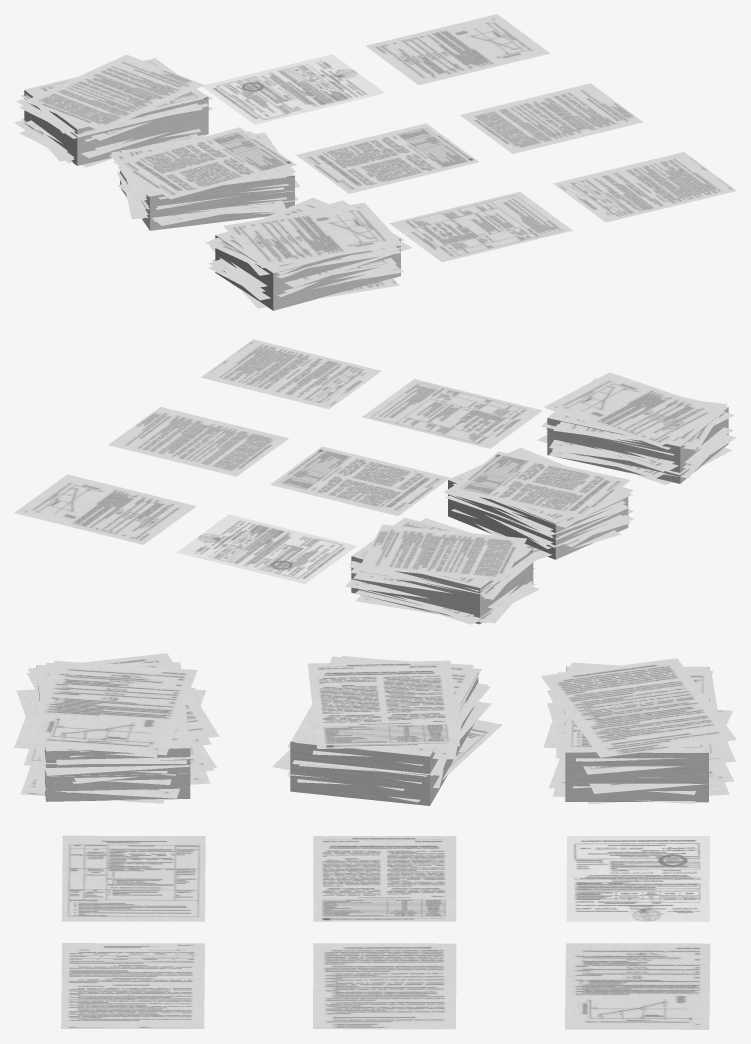
Rendered from sheets of paper.fbx.
The picture shows the model from 3 angles, top to bottom: view 1: azimuth 30°, elevation 25°; view 2: azimuth 150°, elevation 25°; view 3: azimuth 270°, elevation 25°; orthographic projection. The views are drawn at different scales.
Parts seen in each view (by area): view 1: stack_1, stack_3, stack_2, sheet_6, sheet_4, sheet_1, sheet_5, sheet_3, sheet_2; view 2: stack_3, stack_1, stack_2, sheet_6, sheet_4, sheet_5, sheet_3, sheet_1, sheet_2; view 3: stack_1, stack_2, stack_3, sheet_6, sheet_5, sheet_1, sheet_2, sheet_4, sheet_3.
Part boxes in pixels (x1,y1,x2,y2): stack_1: (205,197,412,310); stack_3: (14,54,212,167); stack_2: (109,127,300,230); sheet_6: (366,14,550,85); sheet_4: (553,152,736,222); sheet_1: (389,191,572,262); sheet_5: (460,83,643,153); sheet_3: (202,54,385,124); sheet_2: (296,123,478,193); stack_3: (345,517,542,624); stack_1: (537,372,736,484); stack_2: (444,447,633,559); sheet_6: (14,474,196,544); sheet_4: (201,339,381,409); sheet_5: (108,407,288,476); sheet_3: (176,514,357,583); sheet_1: (362,379,542,448); sheet_2: (270,446,450,515); stack_1: (14,653,219,803); stack_2: (272,656,502,805); stack_3: (541,658,736,804); sheet_6: (565,943,710,1029); sheet_5: (313,943,456,1029); sheet_1: (62,835,205,921); sheet_2: (313,836,456,921); sheet_4: (61,943,204,1028); sheet_3: (566,836,709,921).
Bounding box in the file's own units: 147 × 11.57 × 138.
